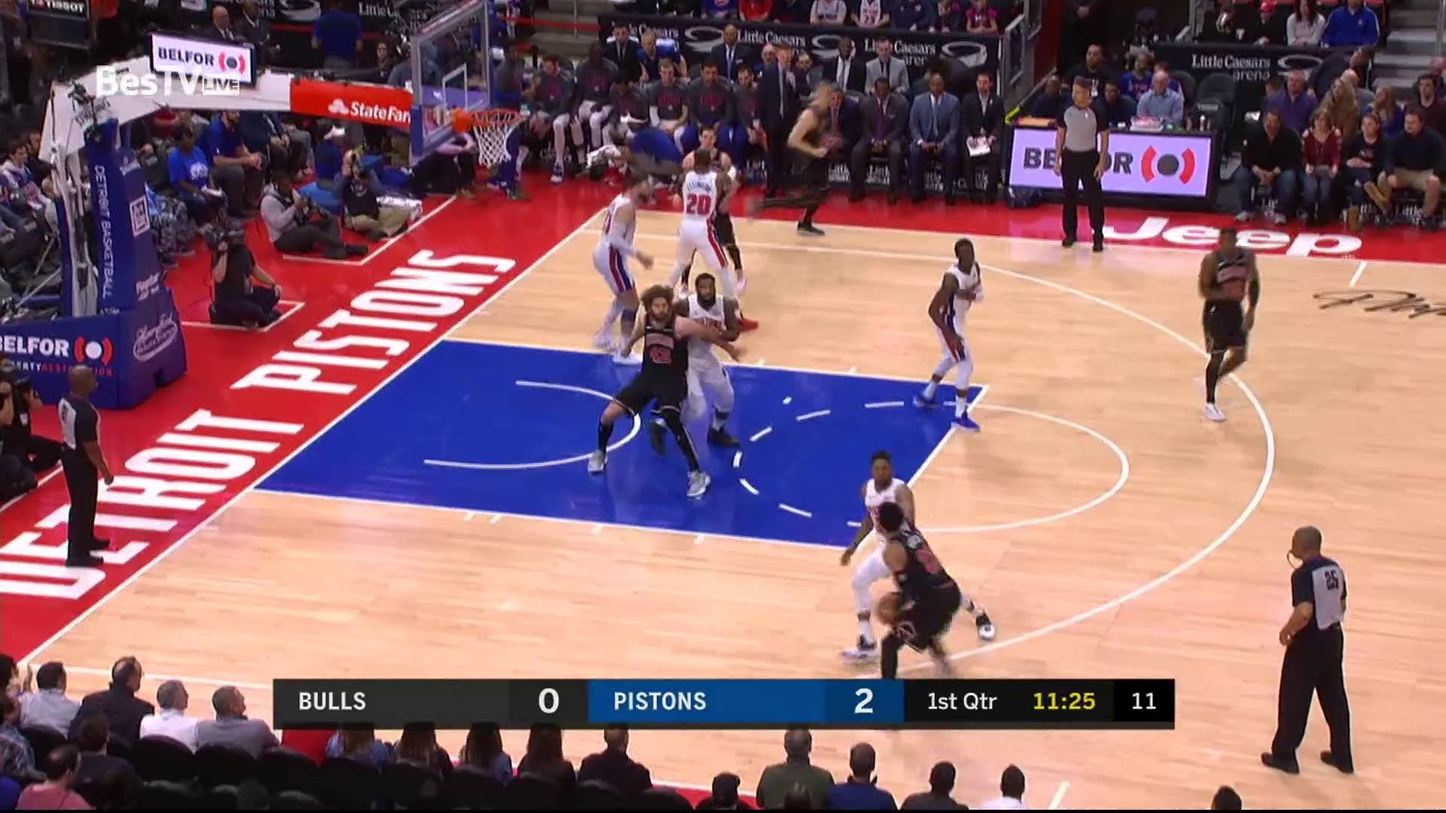basketball: (875, 593, 908, 623)
